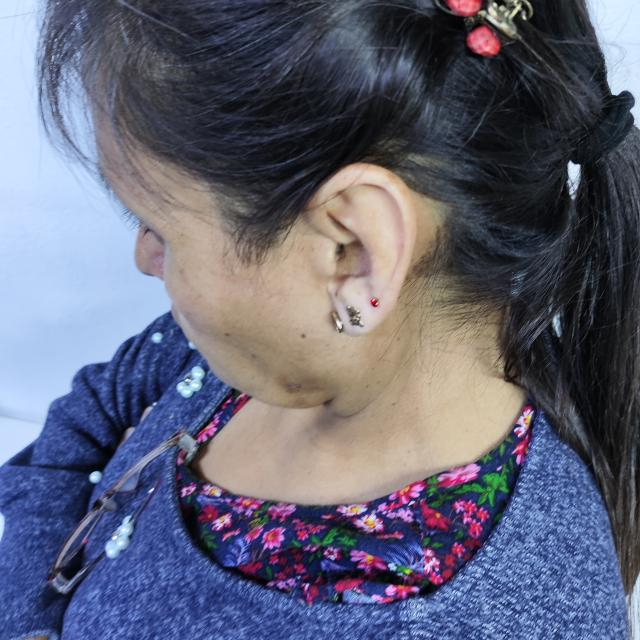ear: (300, 164, 425, 336)
